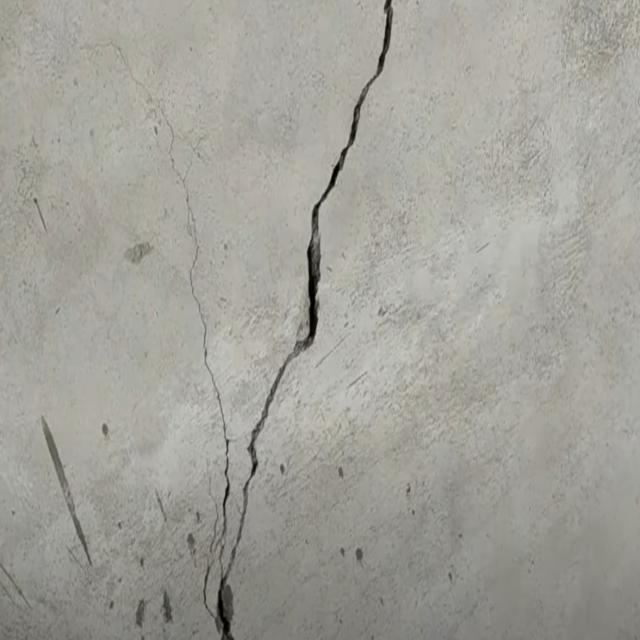Wall_Cracks: (192, 0, 415, 640)
